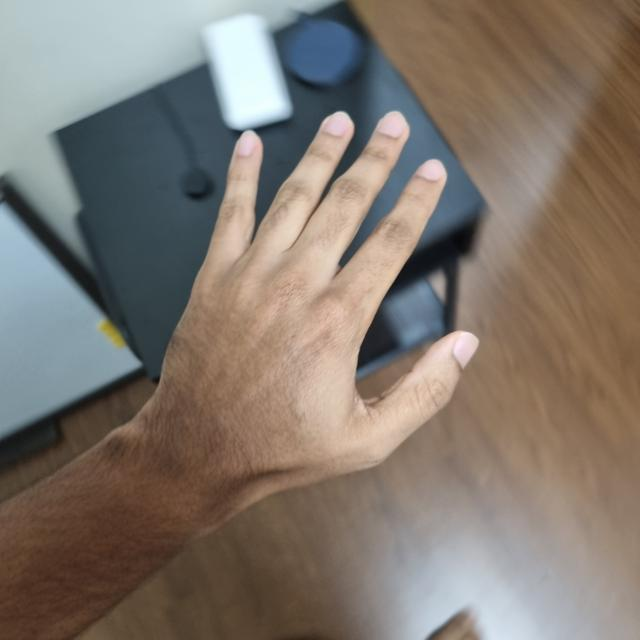Paper: (140, 115, 476, 509)
